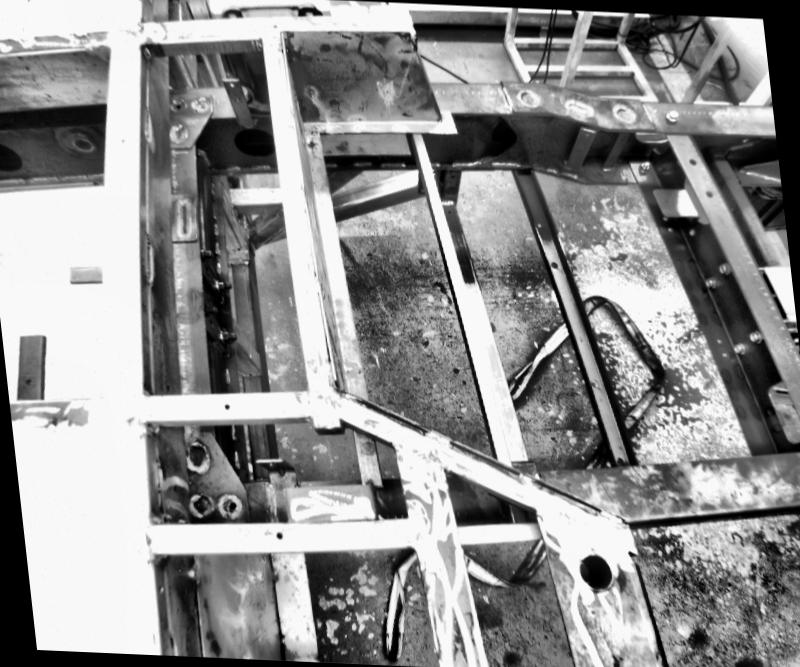bolt: (216, 327, 238, 340), (213, 277, 233, 291), (664, 104, 680, 121), (198, 245, 214, 261), (635, 158, 651, 172), (746, 326, 760, 341), (704, 274, 718, 287), (718, 261, 730, 274), (732, 340, 744, 351)
bracket: (252, 449, 310, 524), (646, 176, 700, 231), (12, 331, 50, 402), (762, 376, 799, 444), (220, 71, 258, 128), (60, 257, 106, 284)
hole: (574, 550, 614, 589), (0, 136, 21, 173), (69, 132, 95, 150), (219, 398, 232, 411), (272, 528, 284, 539), (22, 373, 34, 384), (590, 376, 600, 387), (614, 452, 624, 461), (548, 259, 558, 267), (228, 499, 236, 507), (721, 348, 729, 356), (688, 156, 696, 163), (534, 219, 542, 226), (705, 189, 713, 195), (714, 336, 720, 341), (228, 81, 234, 85), (120, 137, 124, 141), (447, 208, 450, 212)
